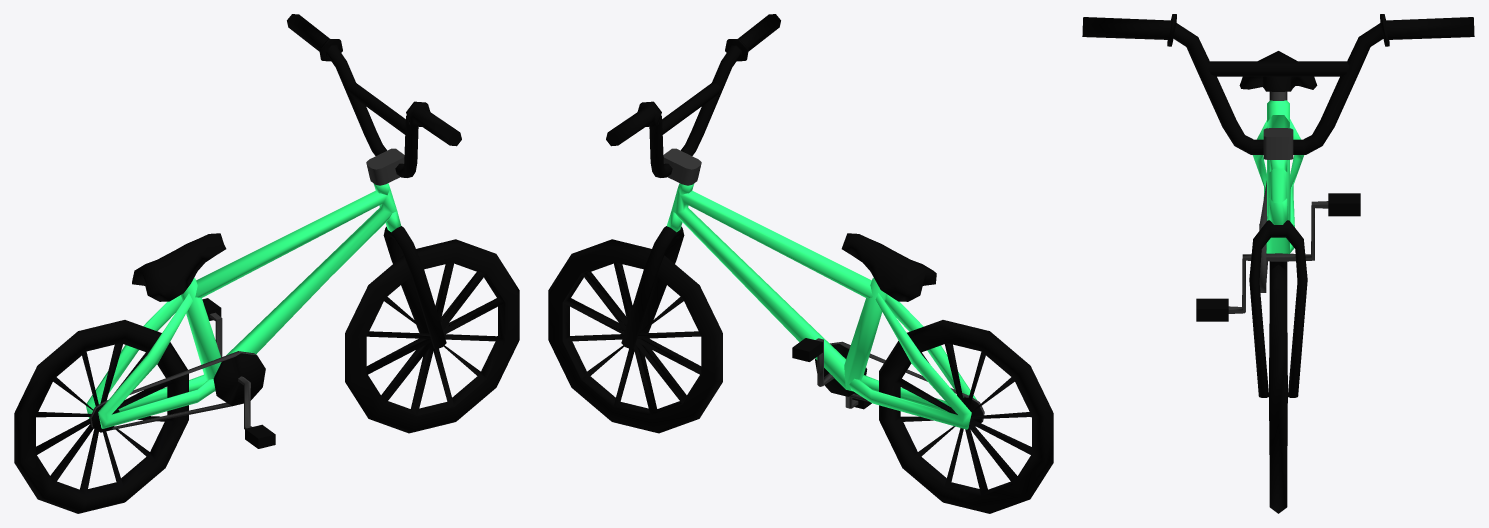
Rendered from BicycleBmxTeal.glb.
3 views of the same model, side by side, from view 1: azimuth 30°, elevation 25°; view 2: azimuth 150°, elevation 25°; view 3: azimuth 270°, elevation 25° (orthographic). The views are drawn at different scales.
Parts seen in each view (by area): view 1: BicycleBmxTeal; view 2: BicycleBmxTeal; view 3: BicycleBmxTeal.
Boxes of the visible parts, x1,y1,x2,y2 form: BicycleBmxTeal: (14, 14, 519, 513); BicycleBmxTeal: (548, 14, 1053, 513); BicycleBmxTeal: (1082, 14, 1474, 513).
Bounding box in the file's own units: 1.84 × 1.29 × 1.02.
Materials: 1 (1 with a texture image).
